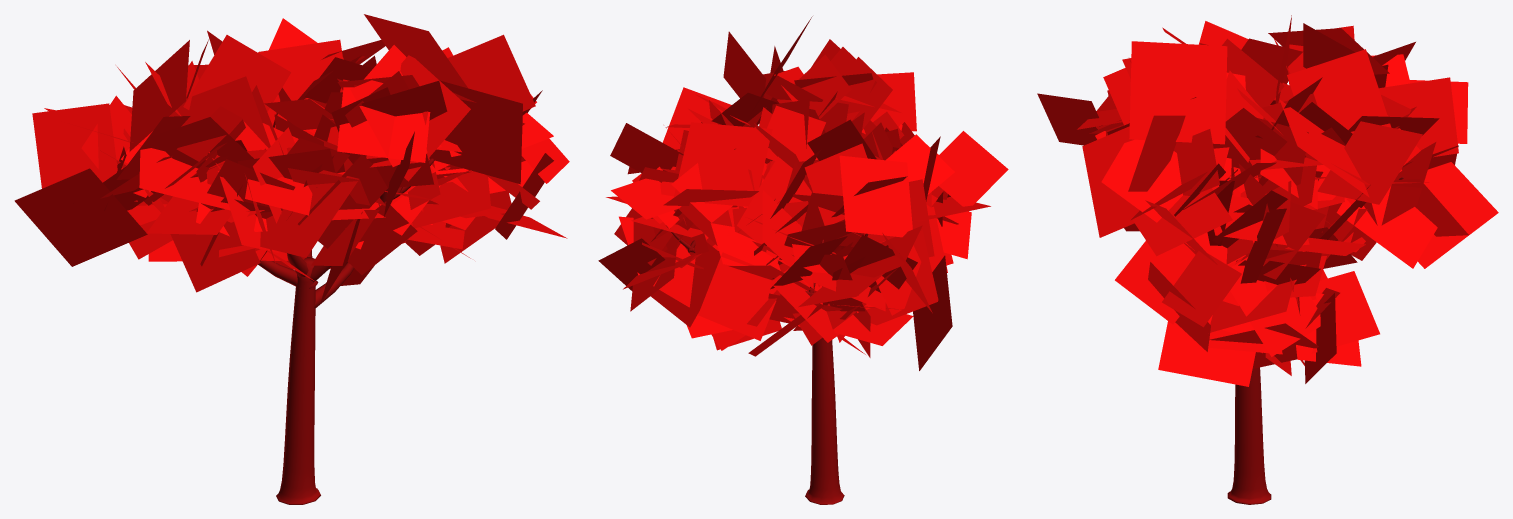
File: tree_blossom_1.glb
3 views of the same model, side by side, from view 1: azimuth 30°, elevation 25°; view 2: azimuth 150°, elevation 25°; view 3: azimuth 270°, elevation 25° (orthographic). The views are drawn at different scales.
Parts seen in each view (by area): view 1: tree_blossom_1; view 2: tree_blossom_1; view 3: tree_blossom_1.
Boxes of the visible parts, box(x1,y1,x2,y2) form: tree_blossom_1: box(14, 14, 569, 504); tree_blossom_1: box(598, 16, 1008, 504); tree_blossom_1: box(1037, 15, 1498, 504).
Bounding box in the file's own units: 8.03 × 8.14 × 6.93.
